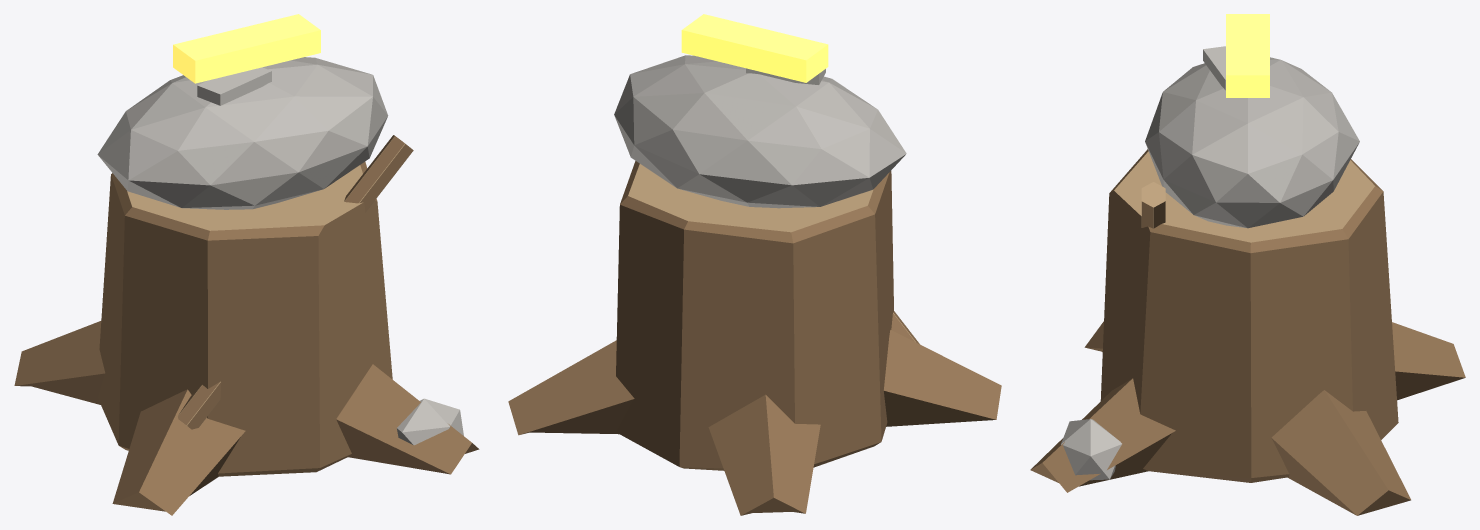
Rendered from asset_anvil_working.glb.
3 views of the same model, side by side, from view 1: azimuth 30°, elevation 25°; view 2: azimuth 150°, elevation 25°; view 3: azimuth 270°, elevation 25° (orthographic).
Parts seen in each view (by area): view 1: asset_anvil_working; view 2: asset_anvil_working; view 3: asset_anvil_working.
Part boxes in pixels (x1,y1,x2,y2): asset_anvil_working: (14, 14, 479, 515); asset_anvil_working: (508, 14, 1001, 515); asset_anvil_working: (1030, 14, 1465, 515).
Bounding box in the file's own units: 0.6924 × 0.67 × 0.6924.
